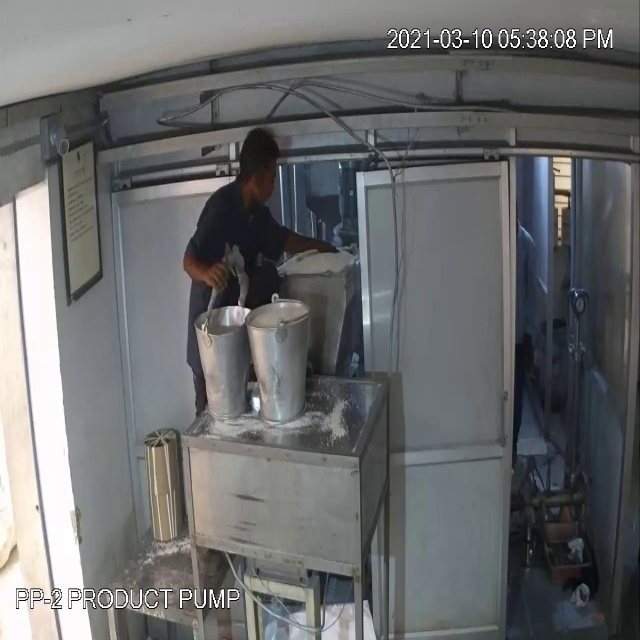Sin_guantes: (277, 216, 342, 276), (182, 238, 226, 293)
